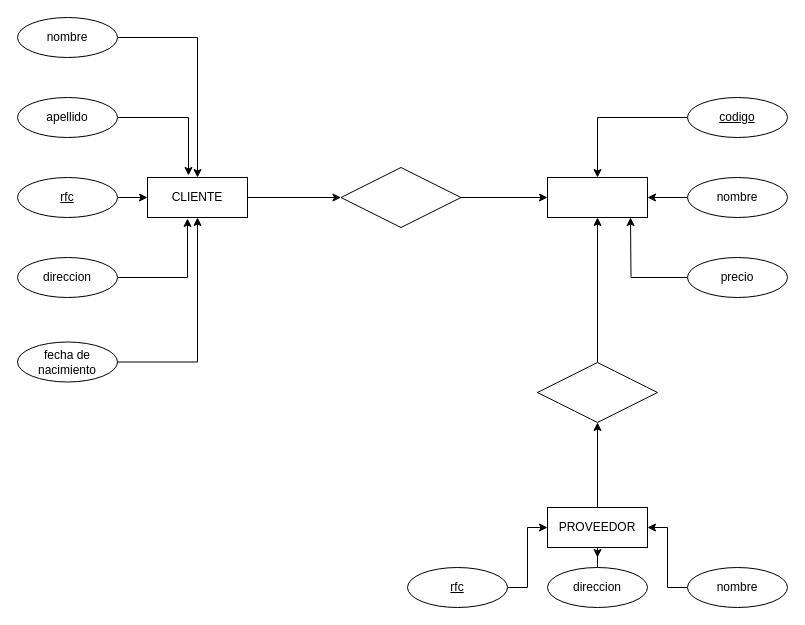
The diagram is 805 pixels wide and 625 high, and some of its shapes have lost their labels. Here are the shapes that lost their labels. From the top down, the centre of each, then its label:
At (400,197): "compra".
At (597,197): "PRODUCTO".
At (597,392): "vende".
